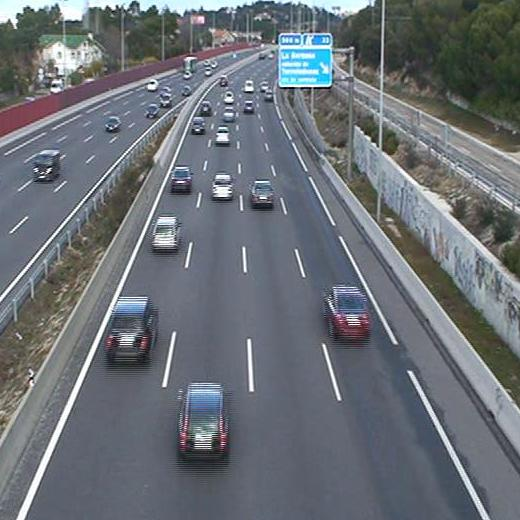car: (174, 380, 232, 463), (103, 296, 159, 364), (321, 285, 375, 342), (150, 216, 184, 251), (248, 179, 278, 207), (210, 171, 235, 199), (170, 165, 195, 190), (214, 124, 231, 144), (190, 116, 207, 135), (222, 106, 236, 122), (200, 100, 213, 113), (243, 99, 254, 112)
